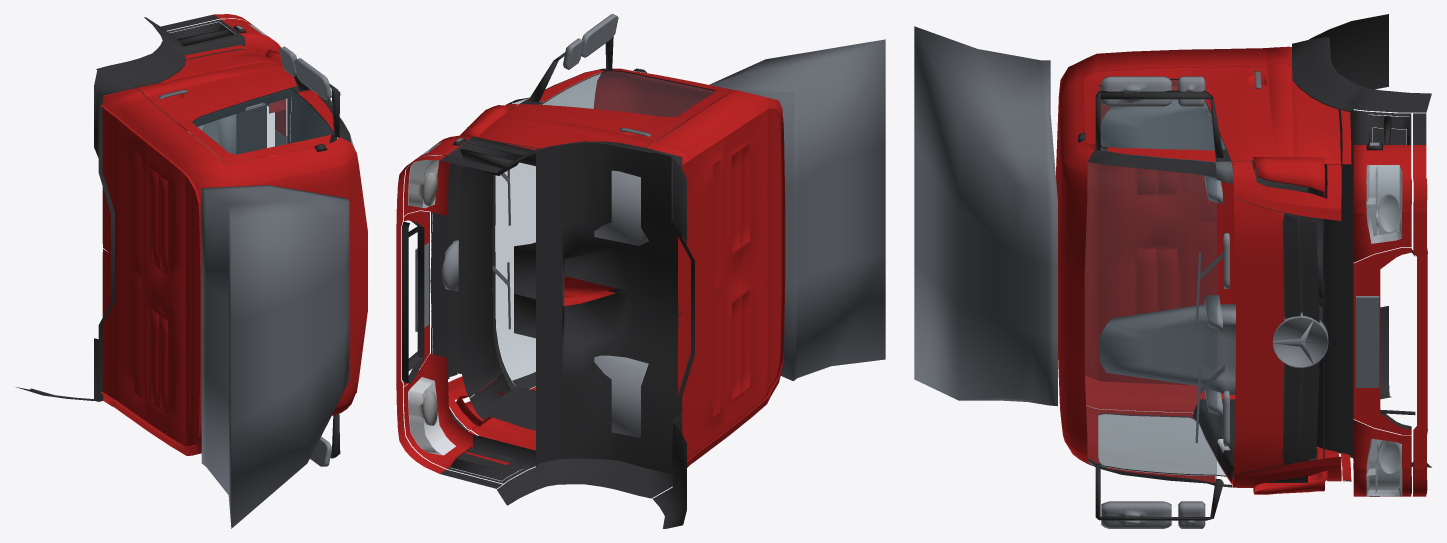
The model's file is atego_cab.obj.
3 views of the same model, side by side, from view 1: azimuth 30°, elevation 25°; view 2: azimuth 150°, elevation 25°; view 3: azimuth 270°, elevation 25° (orthographic). The views are drawn at different scales.
Parts seen in each view (by area): view 1: cab; view 2: cab; view 3: cab.
Boxes of the visible parts, x1,y1,x2,y2 form: cab: (16, 14, 367, 528); cab: (396, 14, 885, 528); cab: (914, 14, 1431, 528).
Bounding box in the file's own units: 1.87 × 2.69 × 2.8.
